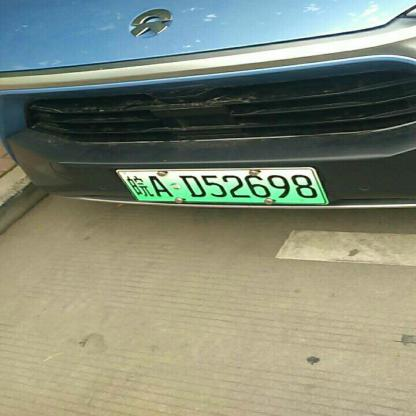lp: (118, 168, 326, 202)
